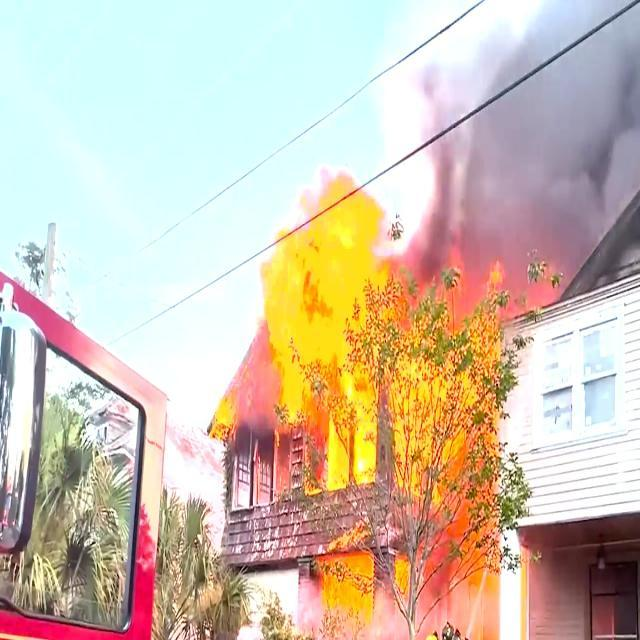Fire: (273, 178, 382, 396), (396, 321, 476, 538), (358, 418, 379, 486), (333, 413, 351, 484)
Smoke: (390, 9, 640, 215)
